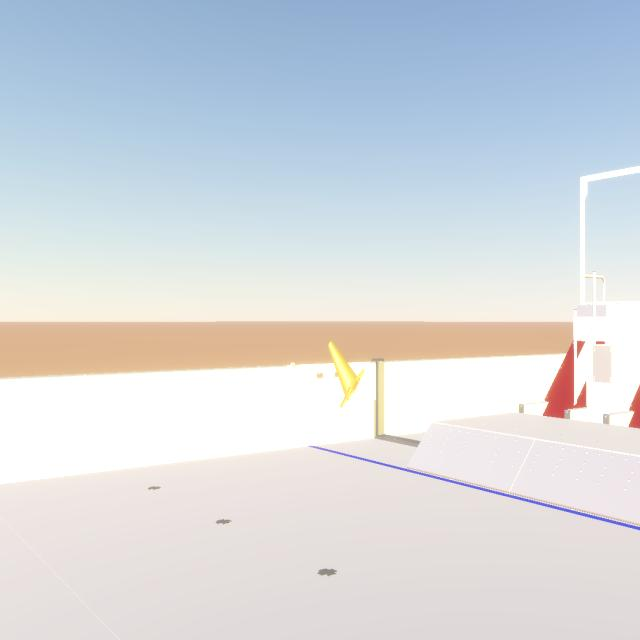frc_cone: (328, 341, 365, 408)
